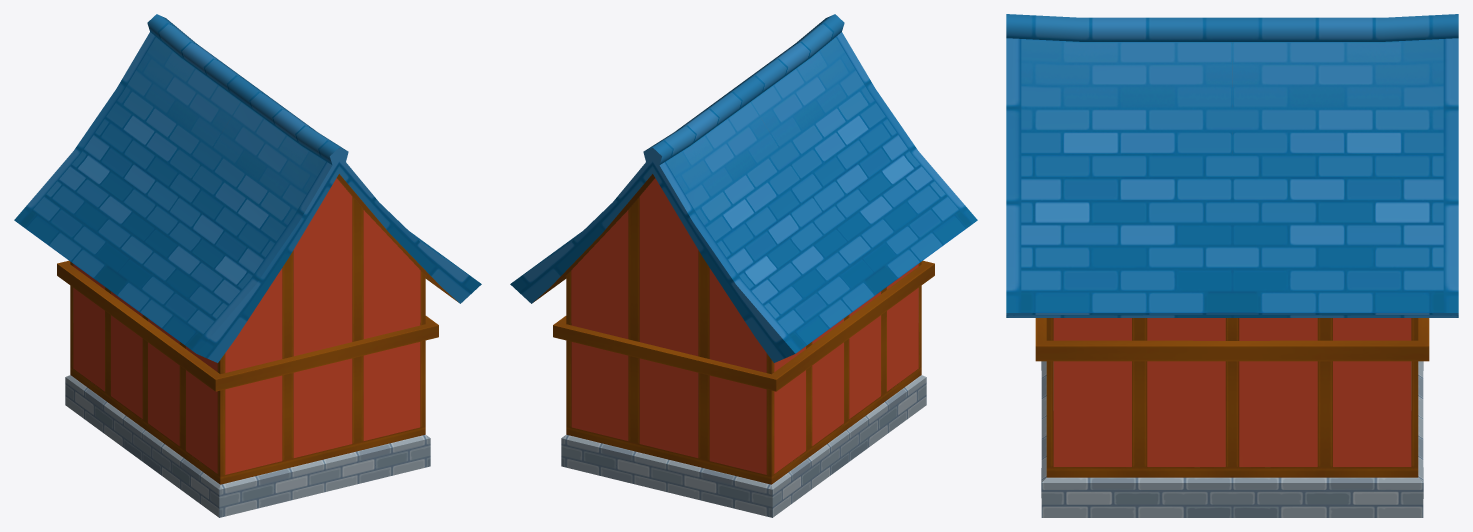
The model's file is HOS0210004.FBX.
The picture shows the model from 3 angles, left to right: view 1: azimuth 30°, elevation 25°; view 2: azimuth 150°, elevation 25°; view 3: azimuth 270°, elevation 25°; orthographic projection. The views are drawn at different scales.
Visible parts, largest first — view 1: smHOS0210004; view 2: smHOS0210004; view 3: smHOS0210004.
Part boxes in pixels (box(x1,y1,x2,y2)): smHOS0210004: box(14, 14, 481, 517); smHOS0210004: box(510, 14, 977, 517); smHOS0210004: box(1006, 14, 1458, 517).
Size of the model in its own units: 501 by 596 by 555.
1 material, 1 textured.
